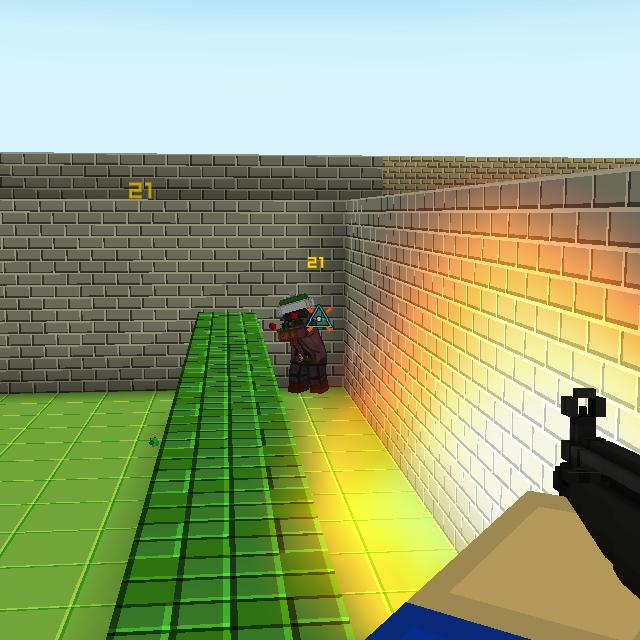enemy: (274, 292, 332, 394)
